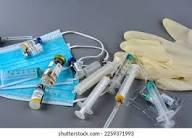Glove: (120, 18, 191, 90)
Syringe: (104, 64, 139, 127), (29, 55, 65, 109), (75, 76, 109, 118), (74, 62, 117, 95), (146, 80, 174, 127), (107, 53, 136, 93)
